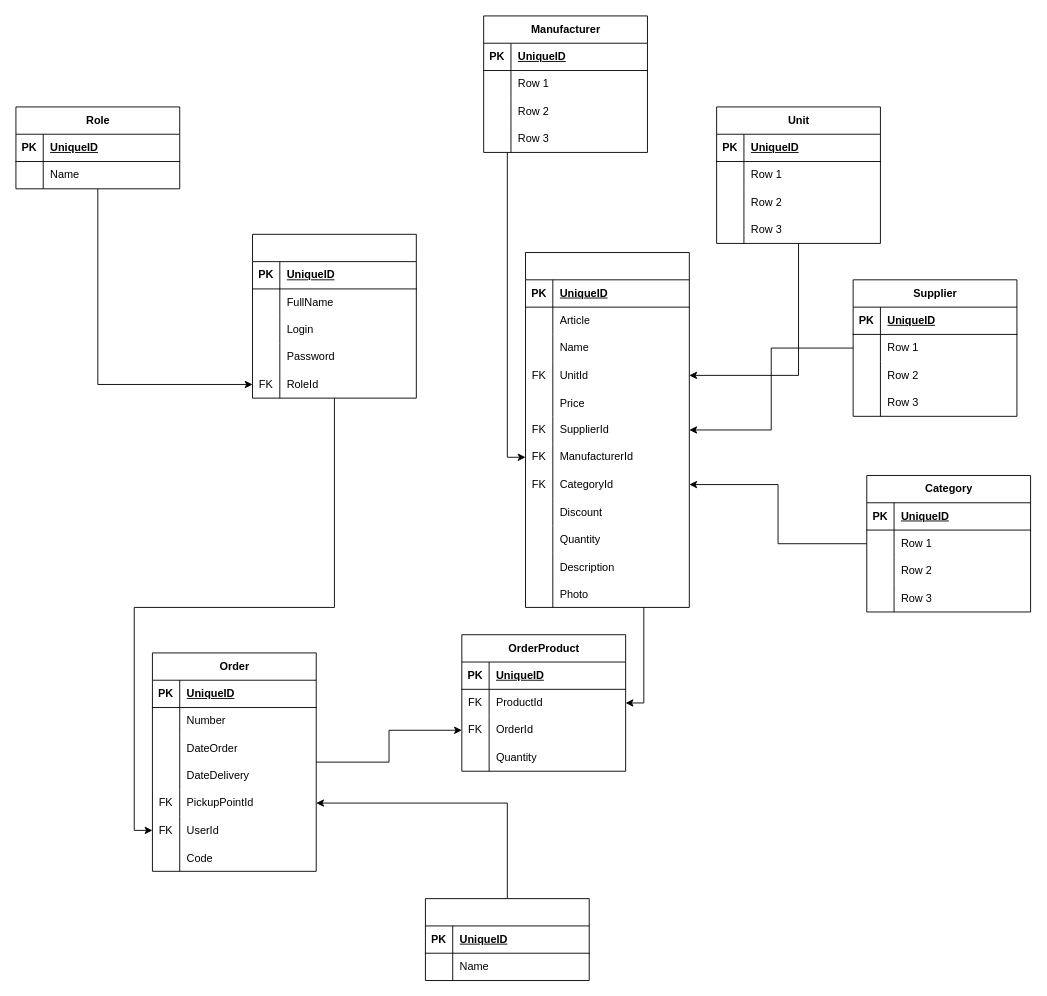
Image size: 1047x996. Some labels were removed from this diagram. Here are the shapes that lost their labels. From the top down, the box of each, then its label:
(252, 233, 416, 398): User
(525, 252, 689, 607): Product
(425, 898, 589, 981): PickupPoint
